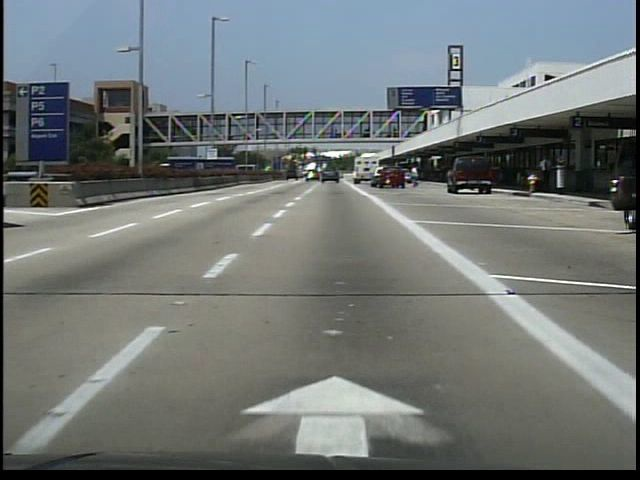person: (535, 154, 554, 197), (409, 168, 424, 190)
